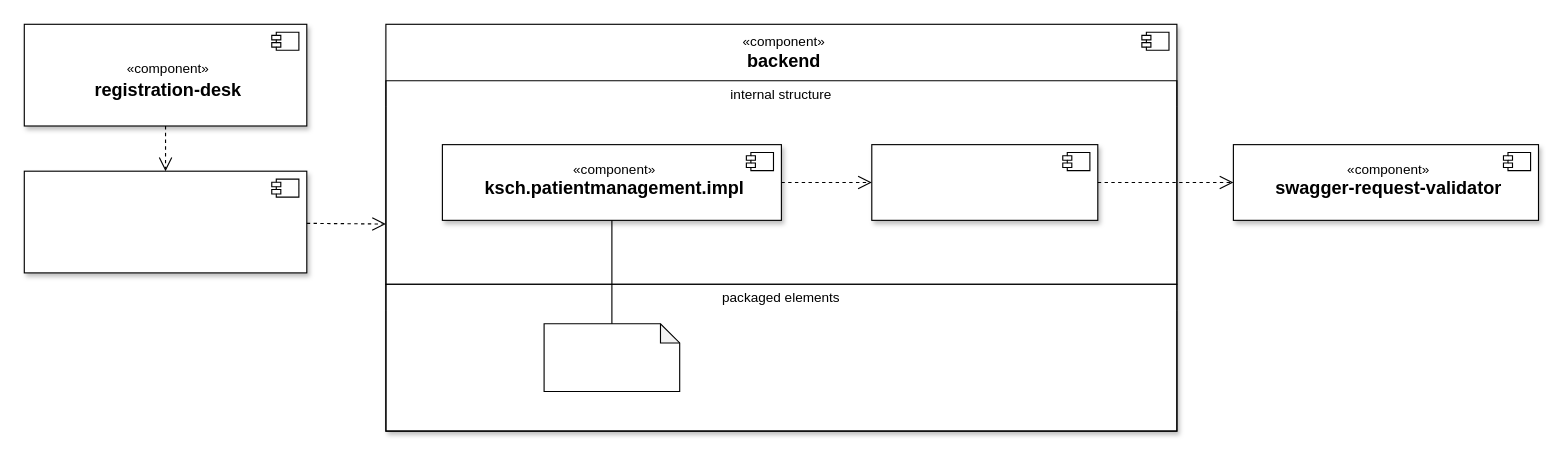
This 1565x459 diagram has some shape labels left out. Here are the shapes that lost their labels. From the top down, the centre of each, then its label:
At [985,183]: "«component» test".
At [166,223]: "«component» ksch-dart-client".
At [611,357]: "openapi.yml".
